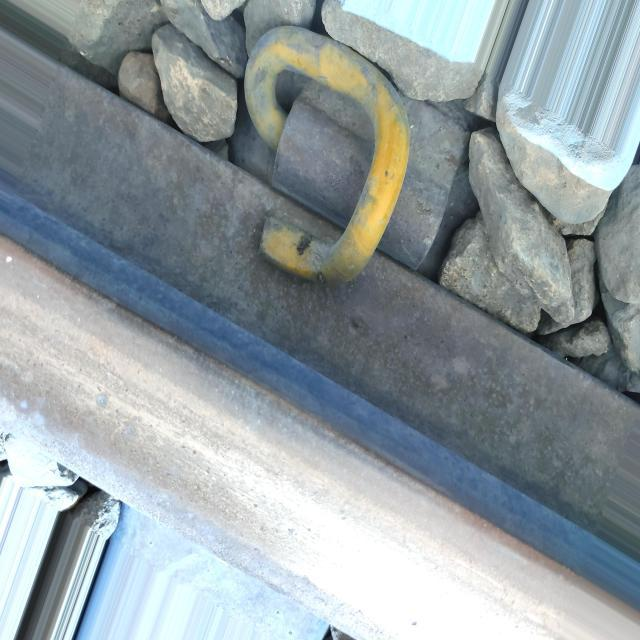Good Fasteners: (244, 26, 478, 282)
